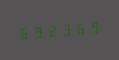nine: (31, 22, 44, 41), (88, 17, 101, 36)
six: (17, 23, 30, 42), (74, 18, 87, 37)
three: (60, 19, 73, 38)
two: (46, 21, 59, 40)
